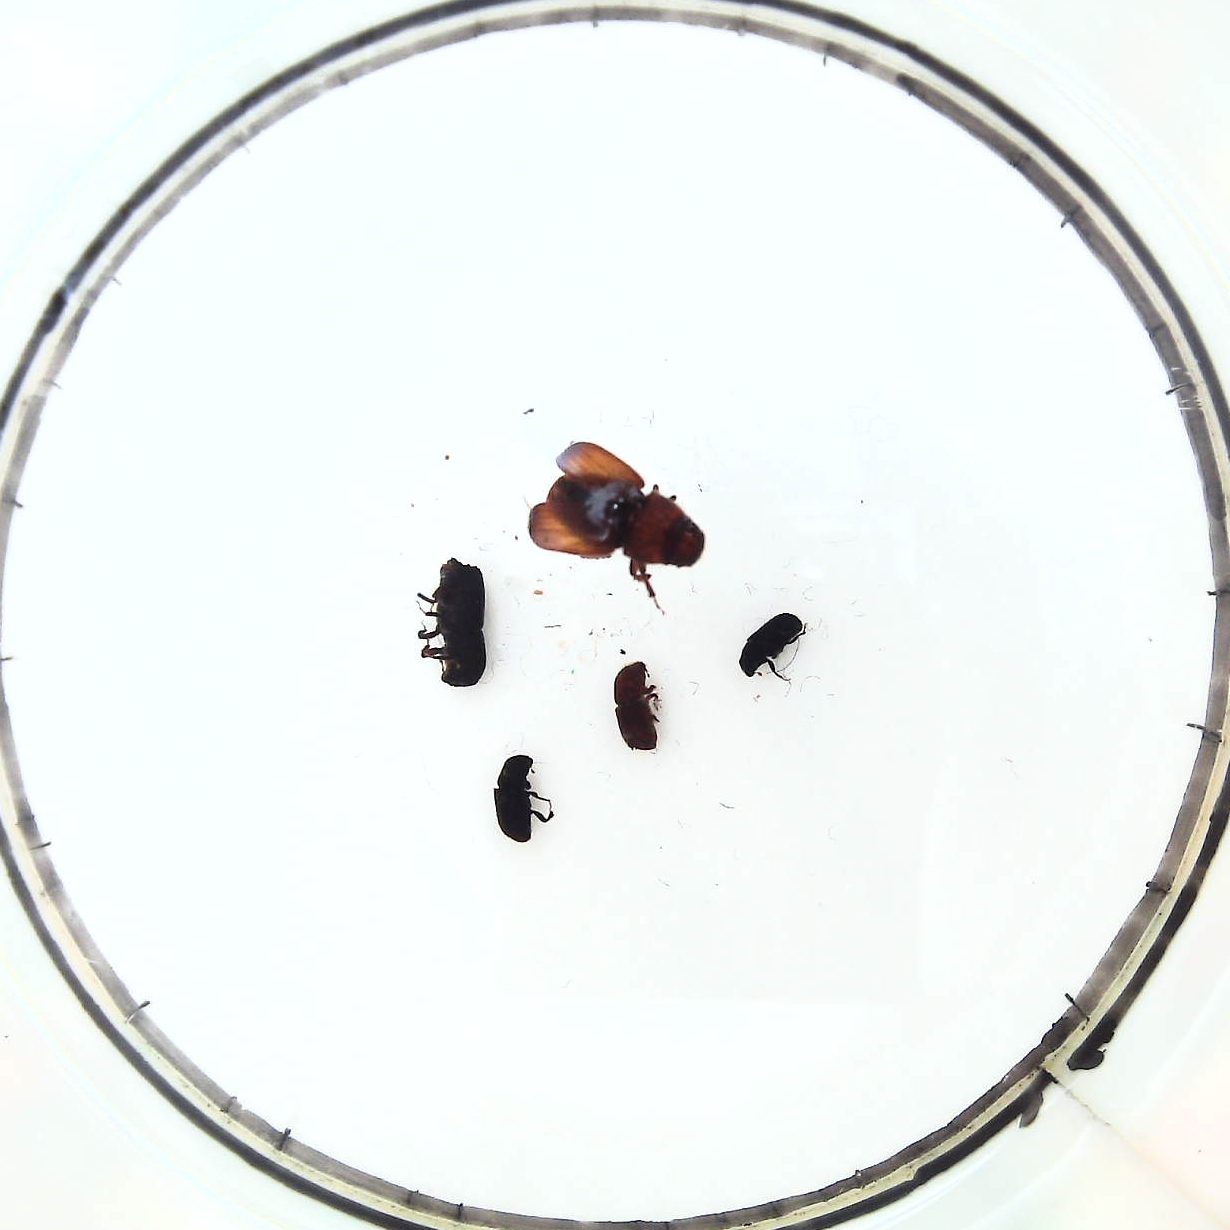Boerner: (429, 560, 489, 690)
Leconte: (526, 439, 708, 573)
Linnaeus: (610, 660, 657, 755)
armandi: (493, 752, 540, 848)
coleoptera: (738, 612, 803, 679)
